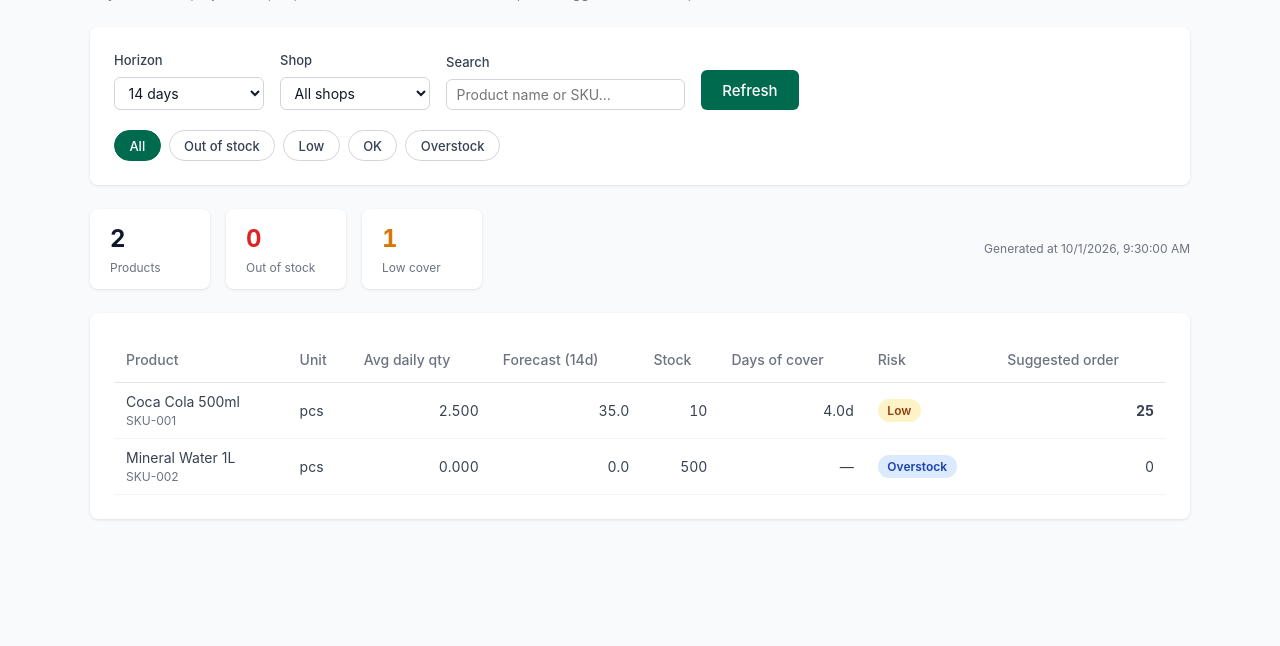
Test: Forecast page › clicking a row lazy-fetches the detail and renders both chart series
The width and height of the screenshot is (1280, 646).
Click the row "Coca Cola 500ml SKU-001 pcs 2.500 35.0 10 4.0d Low 25": (640, 411) [114,383,1166,439]
(page scrolled)
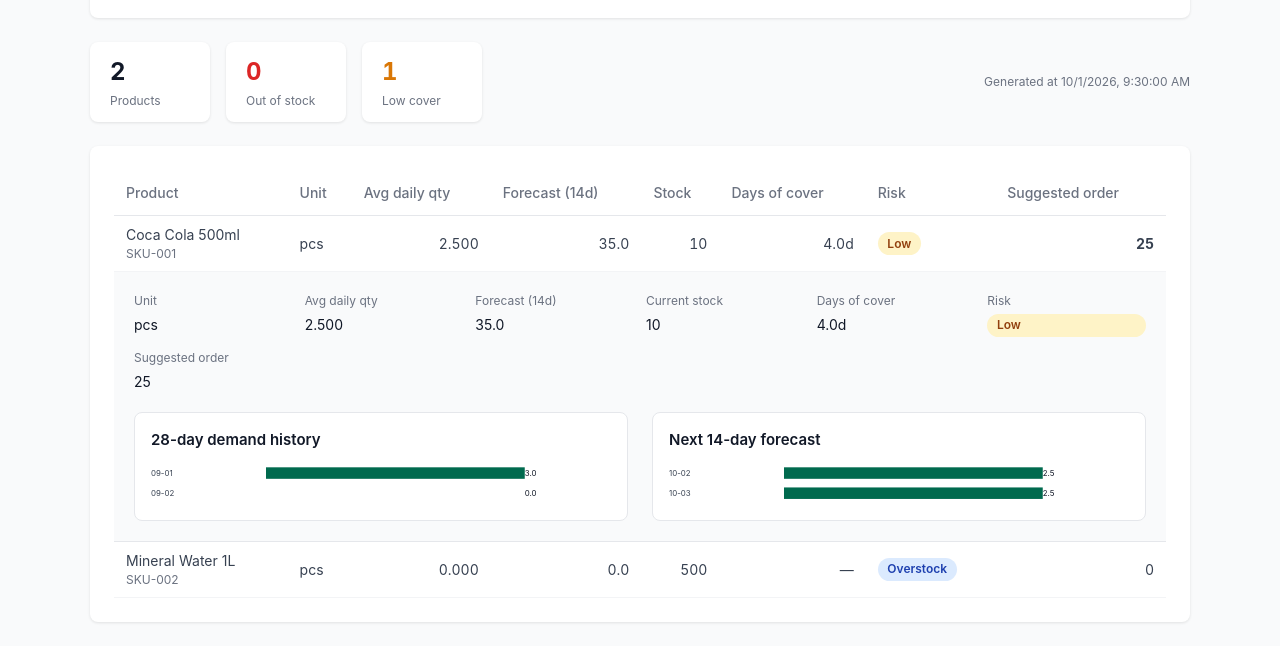
Expected: the text "09-01" is shown, [151,468,173,478]
Expected: the heading "28-day demand history" is shown, [151,430,321,449]
Expected: the heading "Next 14-day forecast" is shown, [669,430,821,449]
